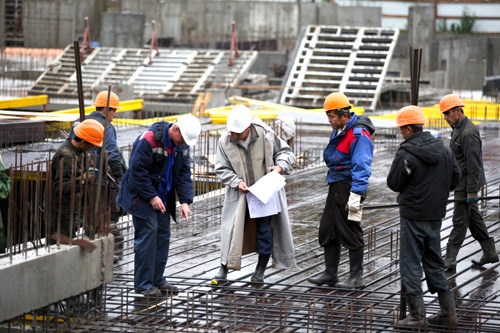white: (166, 111, 201, 149), (225, 106, 252, 142)
yellow: (69, 119, 105, 154), (322, 90, 352, 129), (394, 104, 426, 140), (92, 90, 120, 124), (438, 94, 465, 127)
